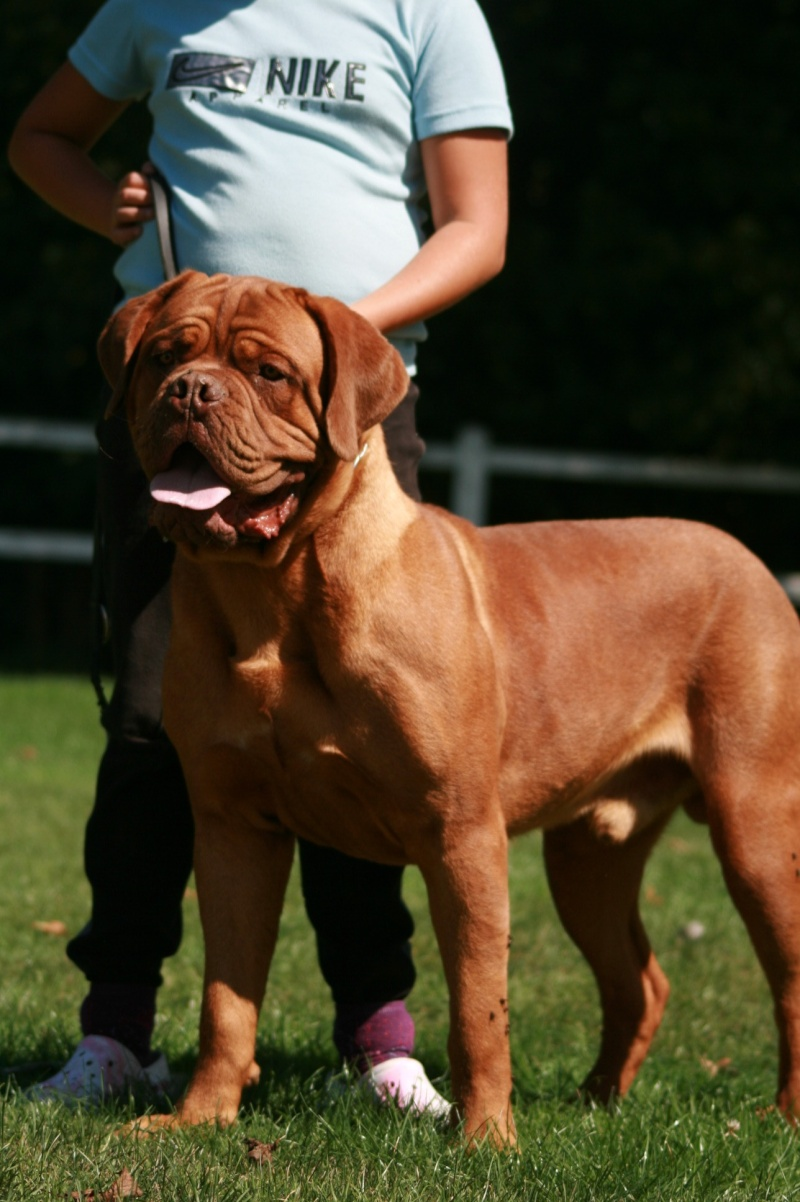dogue_de_bordeaux: (99, 267, 800, 1150)
person: (13, 0, 518, 1117)
